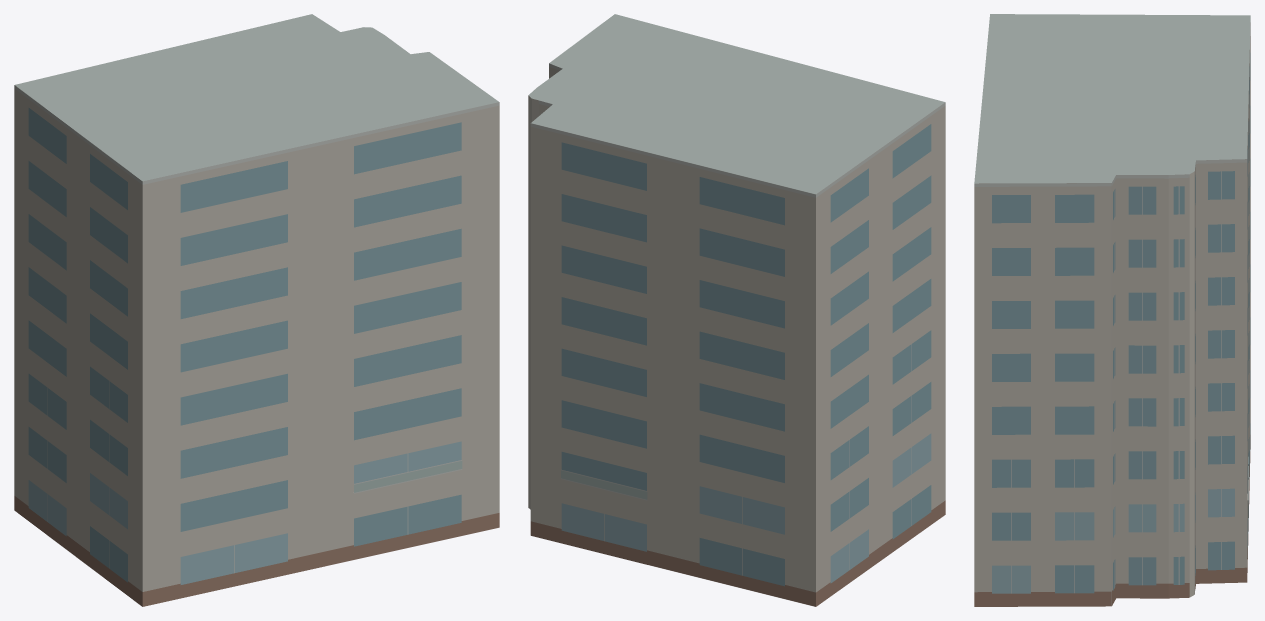
The model's file is survey-upis-32839961.glb.
3 views of the same model, side by side, from view 1: azimuth 30°, elevation 25°; view 2: azimuth 150°, elevation 25°; view 3: azimuth 270°, elevation 25° (orthographic). The views are drawn at different scales.
Parts seen in each view (by area): view 1: survey-upis-32839961.tmp; view 2: survey-upis-32839961.tmp; view 3: survey-upis-32839961.tmp.
Part boxes in pixels (box(x1,y1,x2,y2)): survey-upis-32839961.tmp: box(14, 14, 499, 606); survey-upis-32839961.tmp: box(528, 14, 945, 606); survey-upis-32839961.tmp: box(974, 14, 1250, 606).
Size of the model in its own units: 25.59 by 29.8 by 17.64.
